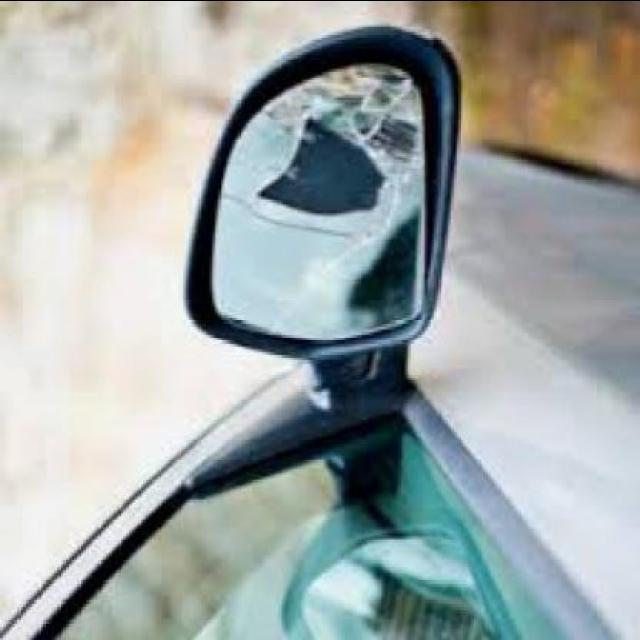Sidemirror-Damage: (201, 25, 457, 365)
